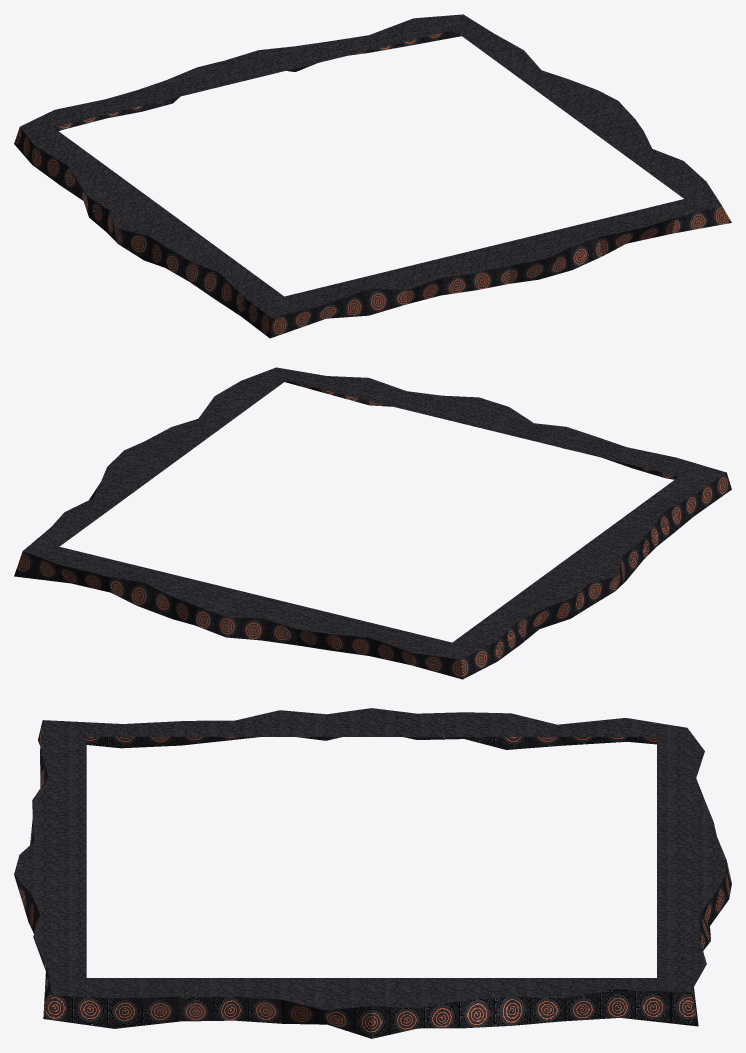
Rendered from entorno_16.fbx.
3 views of the same model, one above another, from view 1: azimuth 30°, elevation 25°; view 2: azimuth 150°, elevation 25°; view 3: azimuth 270°, elevation 25° (orthographic). The views are drawn at different scales.
Visible parts, largest first — view 1: vulcao_entorno_16; view 2: vulcao_entorno_16; view 3: vulcao_entorno_16.
Boxes of the visible parts, x1,y1,x2,y2 form: vulcao_entorno_16: (14,14,731,338); vulcao_entorno_16: (14,367,731,679); vulcao_entorno_16: (14,708,731,1038).
Bounding box in the file's own units: 2059 × 107 × 2039.
2 materials, 2 textured.
